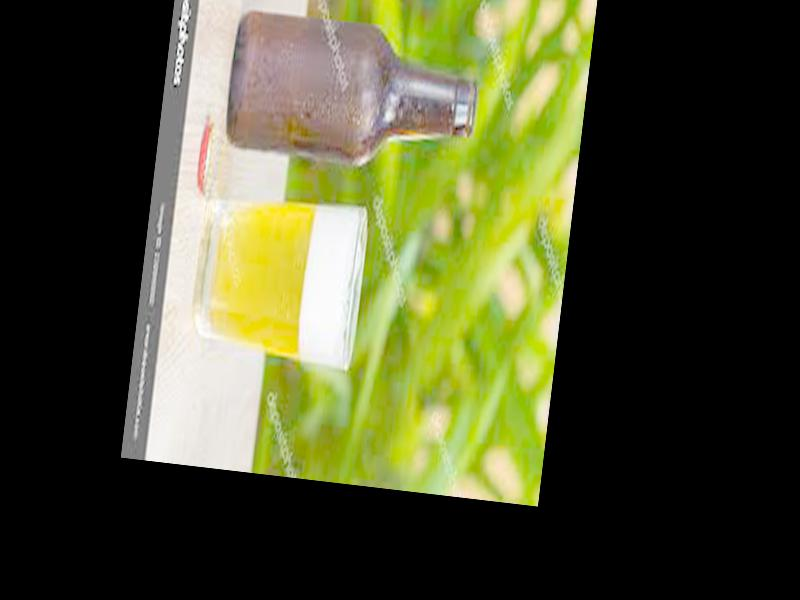Beer: (220, 15, 481, 175)
